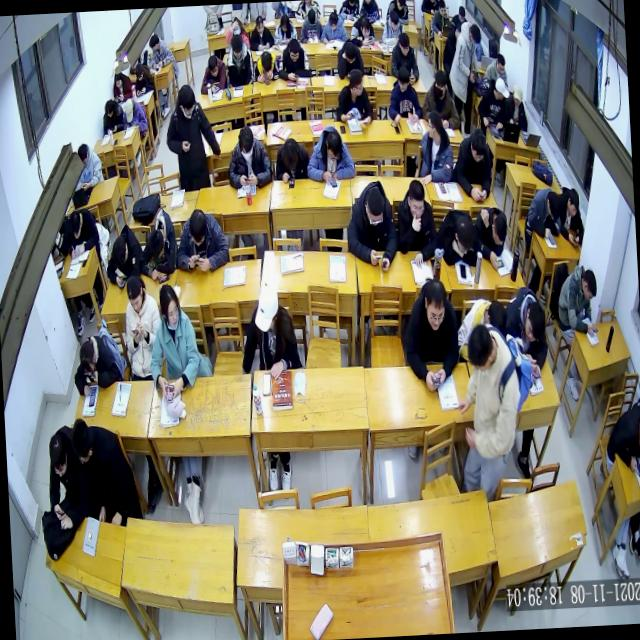bow: (71, 332, 123, 399), (136, 206, 180, 282), (434, 205, 480, 268), (104, 220, 146, 289), (473, 203, 511, 272), (523, 188, 563, 244), (335, 36, 366, 80), (198, 50, 228, 94), (252, 48, 282, 86), (349, 14, 376, 49)
down: (464, 322, 496, 376), (422, 276, 450, 336), (252, 282, 282, 334), (69, 416, 95, 469), (522, 300, 548, 346), (48, 433, 70, 482), (362, 186, 386, 230), (452, 213, 474, 257), (187, 207, 209, 247), (124, 274, 145, 314), (176, 82, 198, 120), (78, 340, 99, 379), (236, 124, 257, 162), (146, 226, 168, 262), (468, 128, 488, 166), (280, 136, 300, 172), (490, 212, 510, 248), (110, 234, 130, 270), (324, 129, 343, 165), (580, 266, 598, 304), (544, 190, 562, 224), (564, 187, 580, 220), (67, 208, 83, 240), (230, 34, 246, 61), (76, 142, 91, 170), (287, 38, 302, 66), (397, 32, 412, 59), (468, 22, 483, 49), (343, 38, 358, 64), (122, 96, 136, 123), (206, 52, 220, 78), (260, 49, 274, 75), (358, 13, 372, 39), (494, 52, 508, 78), (512, 84, 524, 110), (102, 98, 116, 120), (326, 9, 339, 32), (278, 11, 291, 33), (254, 13, 265, 36), (112, 70, 124, 90), (133, 62, 145, 82), (456, 4, 466, 26), (306, 8, 316, 28), (437, 0, 448, 17)
lookup: (405, 178, 428, 224), (432, 68, 449, 102), (230, 17, 242, 38)
sit: (455, 320, 524, 496), (68, 414, 142, 530), (146, 278, 204, 406), (400, 274, 462, 393), (236, 278, 302, 382), (164, 82, 224, 194), (345, 176, 400, 274), (44, 422, 89, 535), (120, 270, 166, 380), (503, 282, 552, 384), (447, 21, 487, 132), (393, 178, 439, 272), (173, 206, 231, 276), (554, 264, 601, 340), (411, 110, 455, 189), (450, 127, 494, 206), (304, 122, 356, 188), (224, 124, 274, 192), (602, 396, 640, 475), (420, 68, 462, 133), (334, 66, 376, 129), (386, 63, 424, 128), (475, 75, 512, 133), (64, 204, 102, 260), (273, 131, 312, 183), (556, 182, 586, 247), (223, 32, 256, 90), (276, 37, 313, 84), (390, 32, 420, 84), (74, 142, 104, 192), (319, 5, 350, 48), (506, 82, 530, 134), (122, 96, 148, 137), (248, 15, 276, 52), (148, 31, 172, 72), (380, 5, 406, 42), (300, 7, 324, 47), (272, 11, 298, 47), (102, 97, 125, 137), (430, 0, 452, 39), (132, 60, 155, 97), (111, 67, 133, 104)
